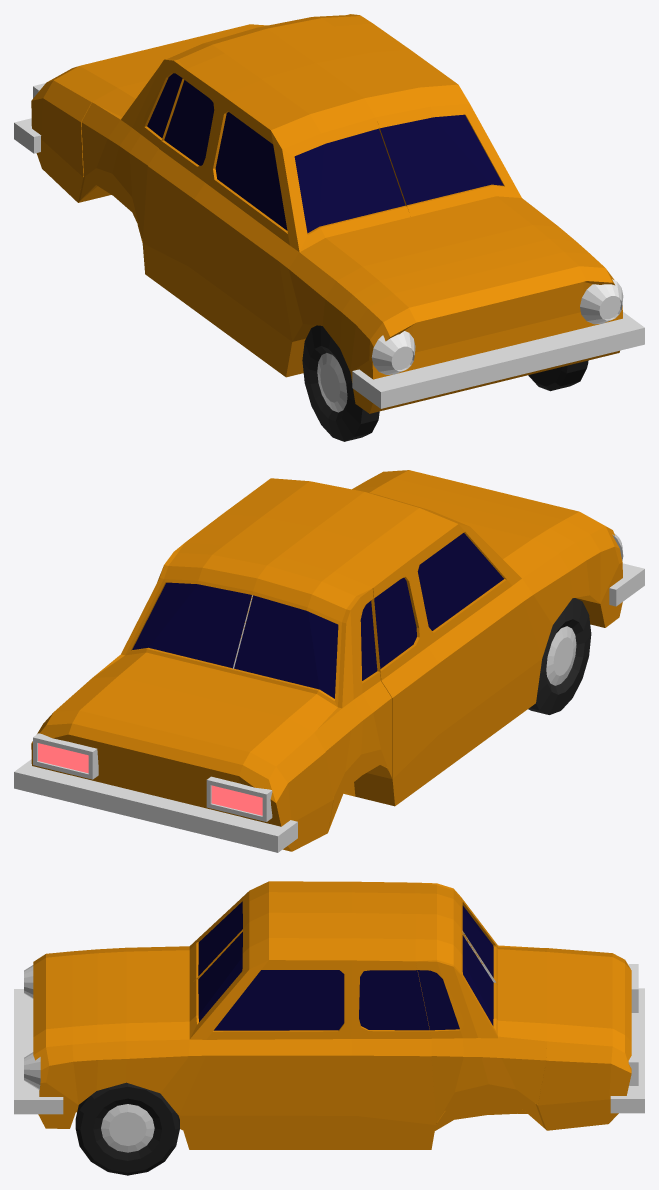
The model's file is zaporozec.fbx.
3 views of the same model, one above another, from view 1: azimuth 30°, elevation 25°; view 2: azimuth 150°, elevation 25°; view 3: azimuth 270°, elevation 25° (orthographic). The views are drawn at different scales.
Parts seen in each view (by area): view 1: Body, Wheel.FR, Wheel.FL; view 2: Body, Wheel.FR; view 3: Body, Wheel.FL.
Part boxes in pixels (<box>): Body: <box>14,14,644,413</box>; Wheel.FR: <box>302,325,379,441</box>; Wheel.FL: <box>528,360,588,391</box>; Body: <box>14,470,644,852</box>; Wheel.FR: <box>528,598,591,714</box>; Body: <box>14,881,644,1149</box>; Wheel.FL: <box>75,1082,179,1175</box>.
Size of the model in its own units: 118 by 130 by 312.
